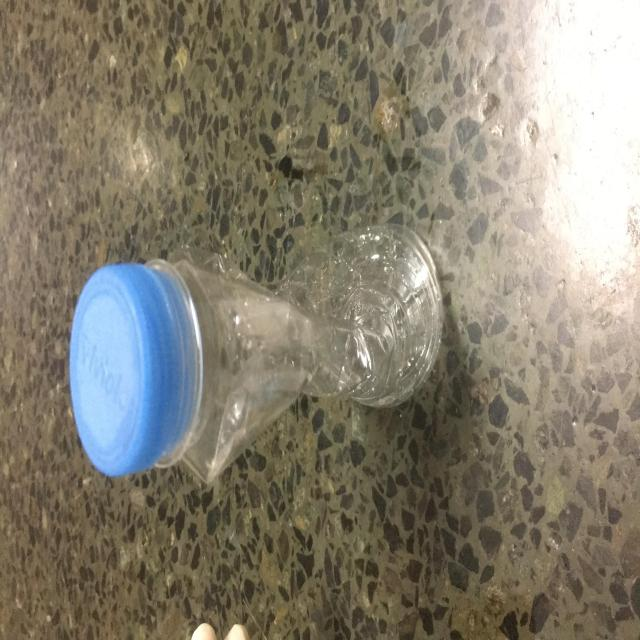bottle: (68, 216, 442, 490)
